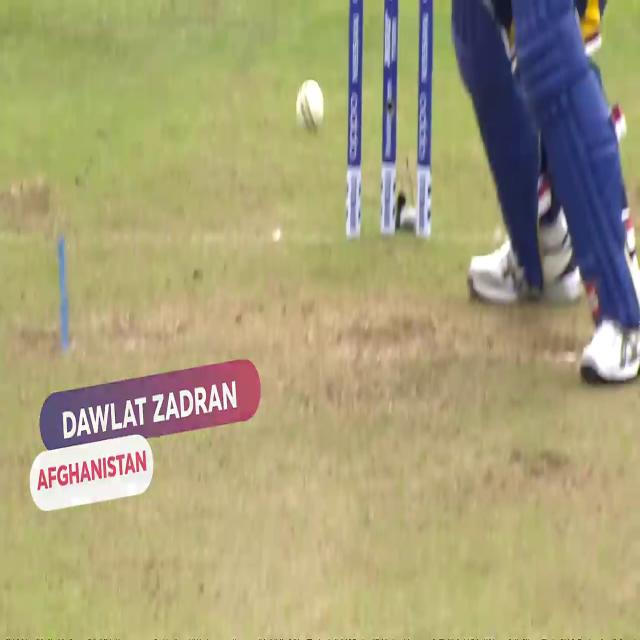ball: (294, 77, 326, 137)
